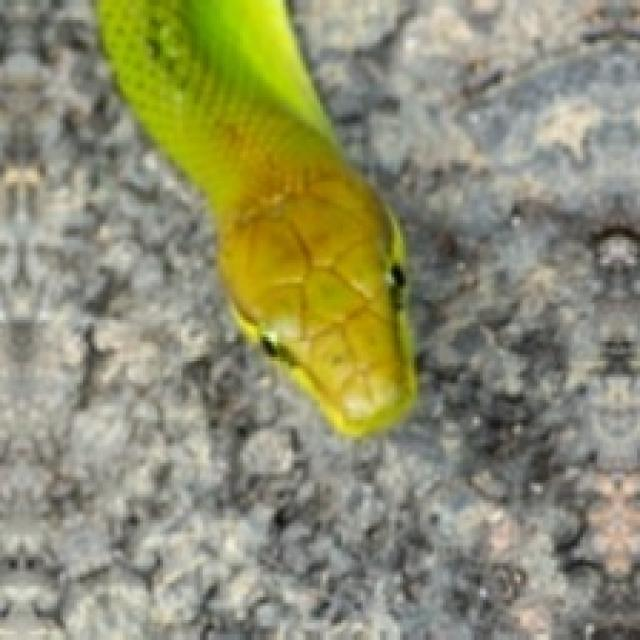red-tailed green ratsnake: (94, 0, 414, 434), (97, 0, 414, 434)
